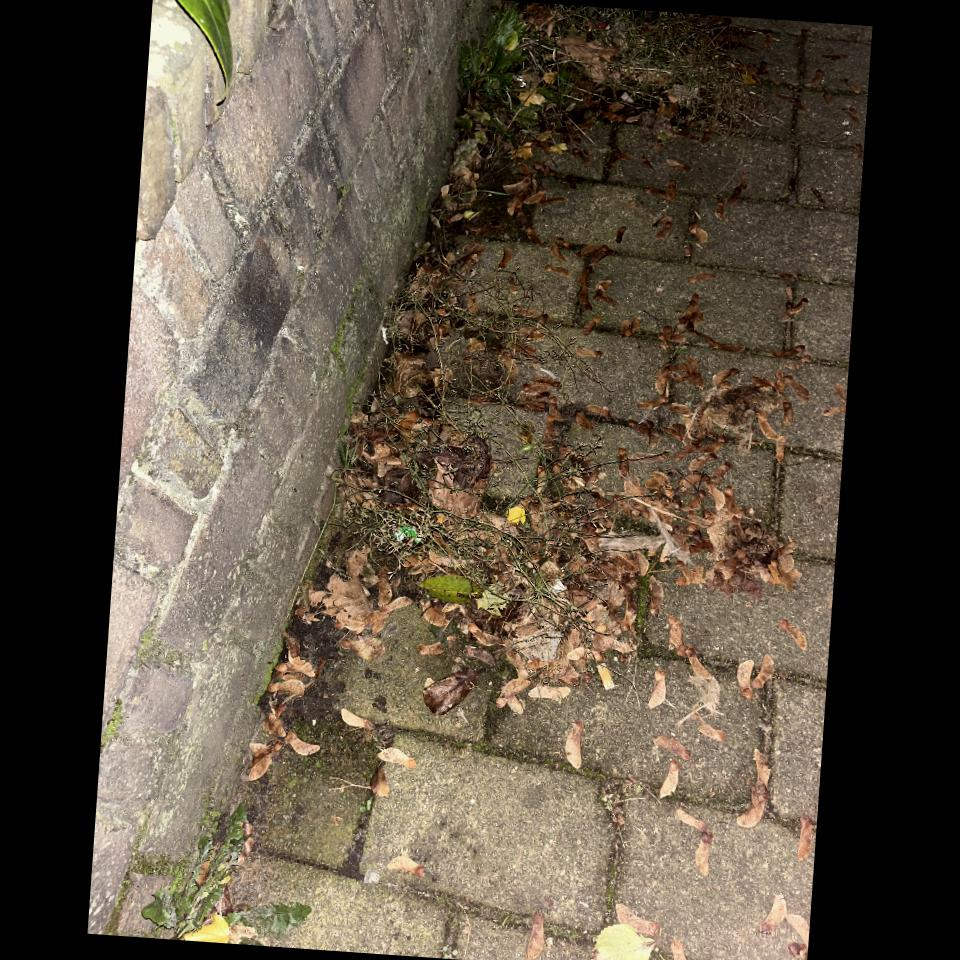weed: (453, 17, 739, 174), (137, 803, 307, 946)
